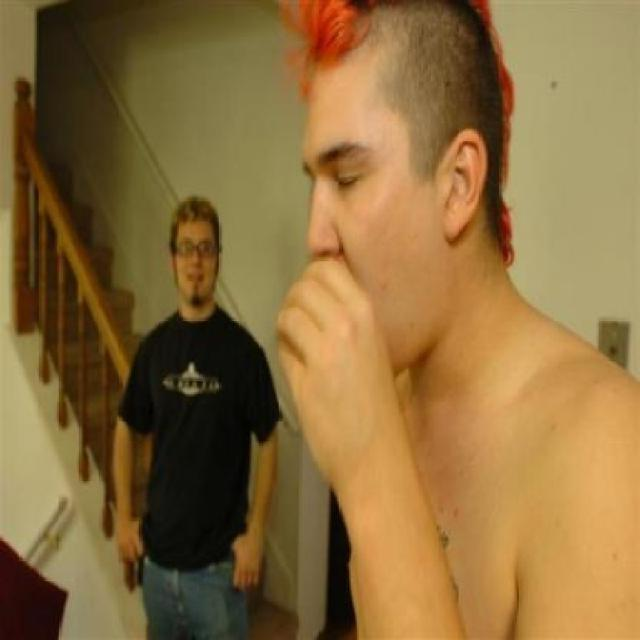stair: (29, 154, 300, 638)
